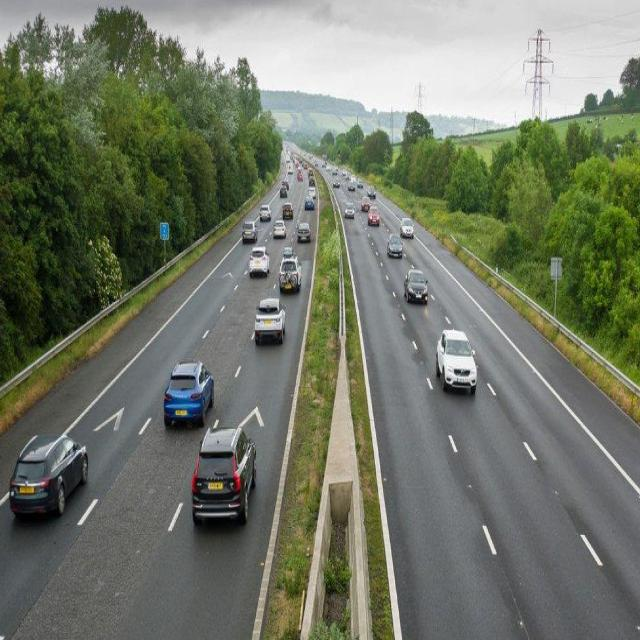Vehicle: (187, 415, 264, 533), (5, 426, 90, 532), (427, 323, 489, 409), (160, 363, 215, 415), (257, 292, 286, 362), (401, 266, 435, 311), (279, 245, 301, 298), (382, 227, 404, 268), (246, 243, 271, 278), (401, 201, 416, 239), (240, 213, 257, 242), (363, 205, 383, 228), (341, 201, 357, 226), (298, 218, 313, 242), (283, 195, 294, 221), (260, 198, 273, 218), (272, 221, 286, 238), (307, 193, 315, 209)
